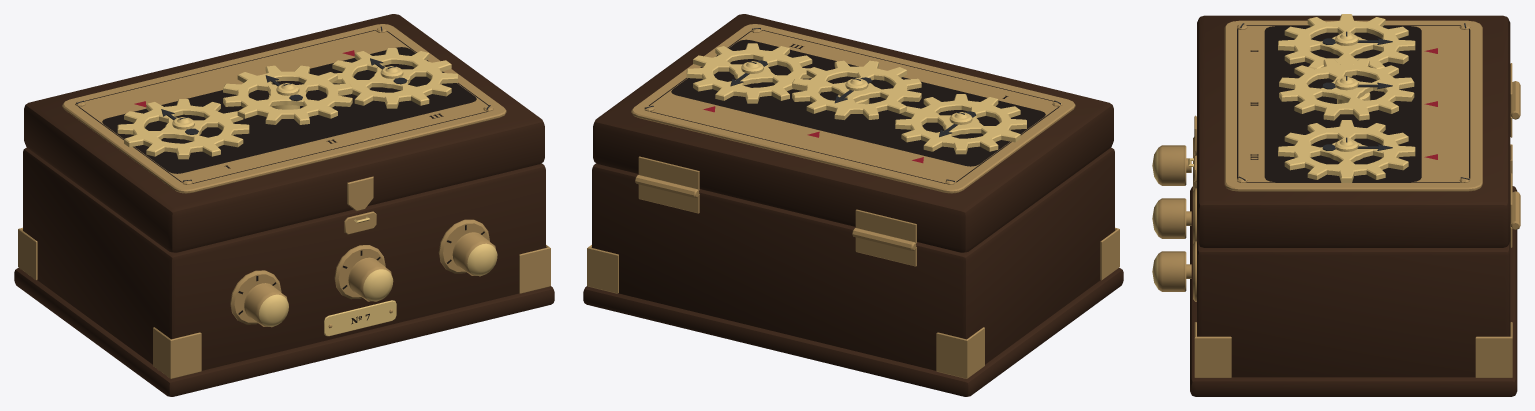
File: gear_box.glb
3 views of the same model, side by side, from view 1: azimuth 30°, elevation 25°; view 2: azimuth 150°, elevation 25°; view 3: azimuth 270°, elevation 25° (orthographic). The views are drawn at different scales.
Parts seen in each view (by area): view 1: box_body, IA_box_lid, IA_gear_1, IA_gear_0, IA_gear_2, IA_knob_1, IA_knob_0, IA_knob_2; view 2: box_body, IA_box_lid, IA_gear_1, IA_gear_0, IA_gear_2; view 3: IA_box_lid, box_body, IA_gear_1, IA_gear_2, IA_gear_0, IA_knob_1, IA_knob_2, IA_knob_0.
Part boxes in pixels (x1,y1,x2,y2): box_body: (14,147,554,396); IA_box_lid: (24,14,544,252); IA_gear_1: (223,65,352,124); IA_gear_0: (117,99,249,159); IA_gear_2: (332,48,457,108); IA_knob_1: (348,257,393,301); IA_knob_0: (244,283,288,327); IA_knob_2: (452,232,497,276); box_body: (583,147,1123,396); IA_box_lid: (593,14,1113,252); IA_gear_1: (792,60,921,119); IA_gear_0: (895,94,1026,154); IA_gear_2: (686,43,812,103); IA_box_lid: (1194,15,1512,247); box_body: (1188,81,1520,396); IA_gear_1: (1279,58,1414,120); IA_gear_2: (1278,120,1415,182); IA_gear_0: (1278,14,1415,76); IA_knob_1: (1152,198,1191,238); IA_knob_2: (1152,251,1191,291); IA_knob_0: (1152,145,1191,185).
Bounding box in the file's own units: 0.268 × 0.1412 × 0.2115.
